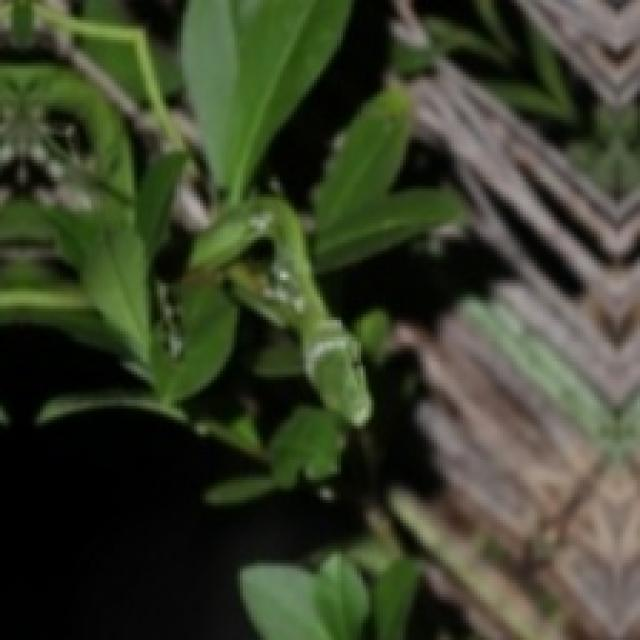red-tailed green ratsnake: (190, 198, 371, 426)
